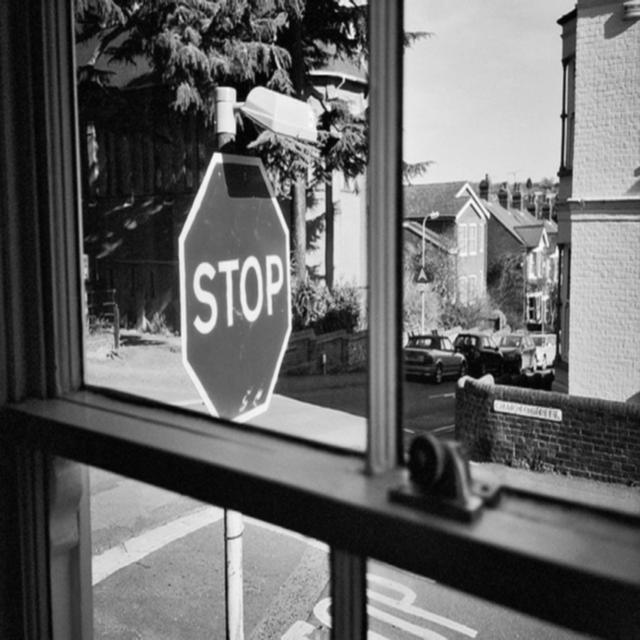car: (399, 331, 467, 379), (453, 331, 502, 375), (495, 332, 536, 372), (528, 331, 555, 367)
pole: (218, 501, 253, 638)
